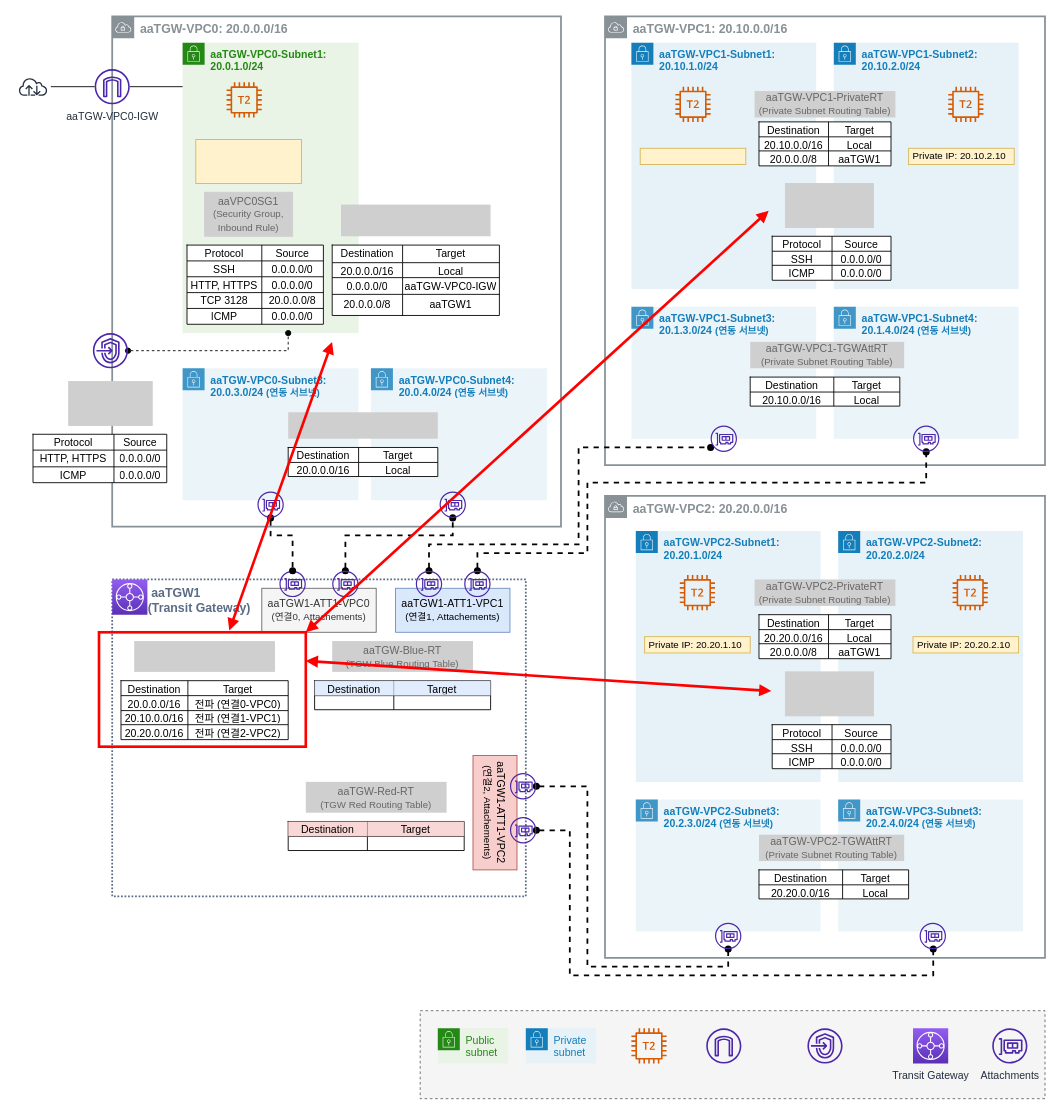
This 1061x1114 diagram has some shape labels left out. Each missing label, with the centre of its shape:
aaTGW-Default-RT (TGW Default Routing Table): point (204, 656)
aaTGW-VPC0-PublicRT (Public Subnet Routing Table): point (415, 220)
aaTGW-VPC0-TGWAttRT (Private Subnet Routing Table): point (362, 425)
aaVPC0-Instance1: point (243, 99)
aaVPC0SG2 (Security Group, Inbound Rule): point (110, 403)
aaVPC1-Instance1: point (692, 103)
aaVPC1-Instance2: point (965, 103)
aaVPC1SG1 (Security Group, Inbound Rule): point (829, 205)
aaVPC2-Instance1: point (697, 592)
aaVPC2-Instance2: point (969, 592)
aaVPC2SG1 (Security Group, Inbound Rule): point (829, 693)
EC2: point (648, 1045)
IGW: point (723, 1045)
Interface Endpoint (CloudFormation Endpoint): point (824, 1045)
Internet: point (33, 86)
Private IP: 20.0.1.10 Public IP 사용 Web Proxy Server: point (248, 161)
Private IP: 20.10.1.10: point (692, 156)
